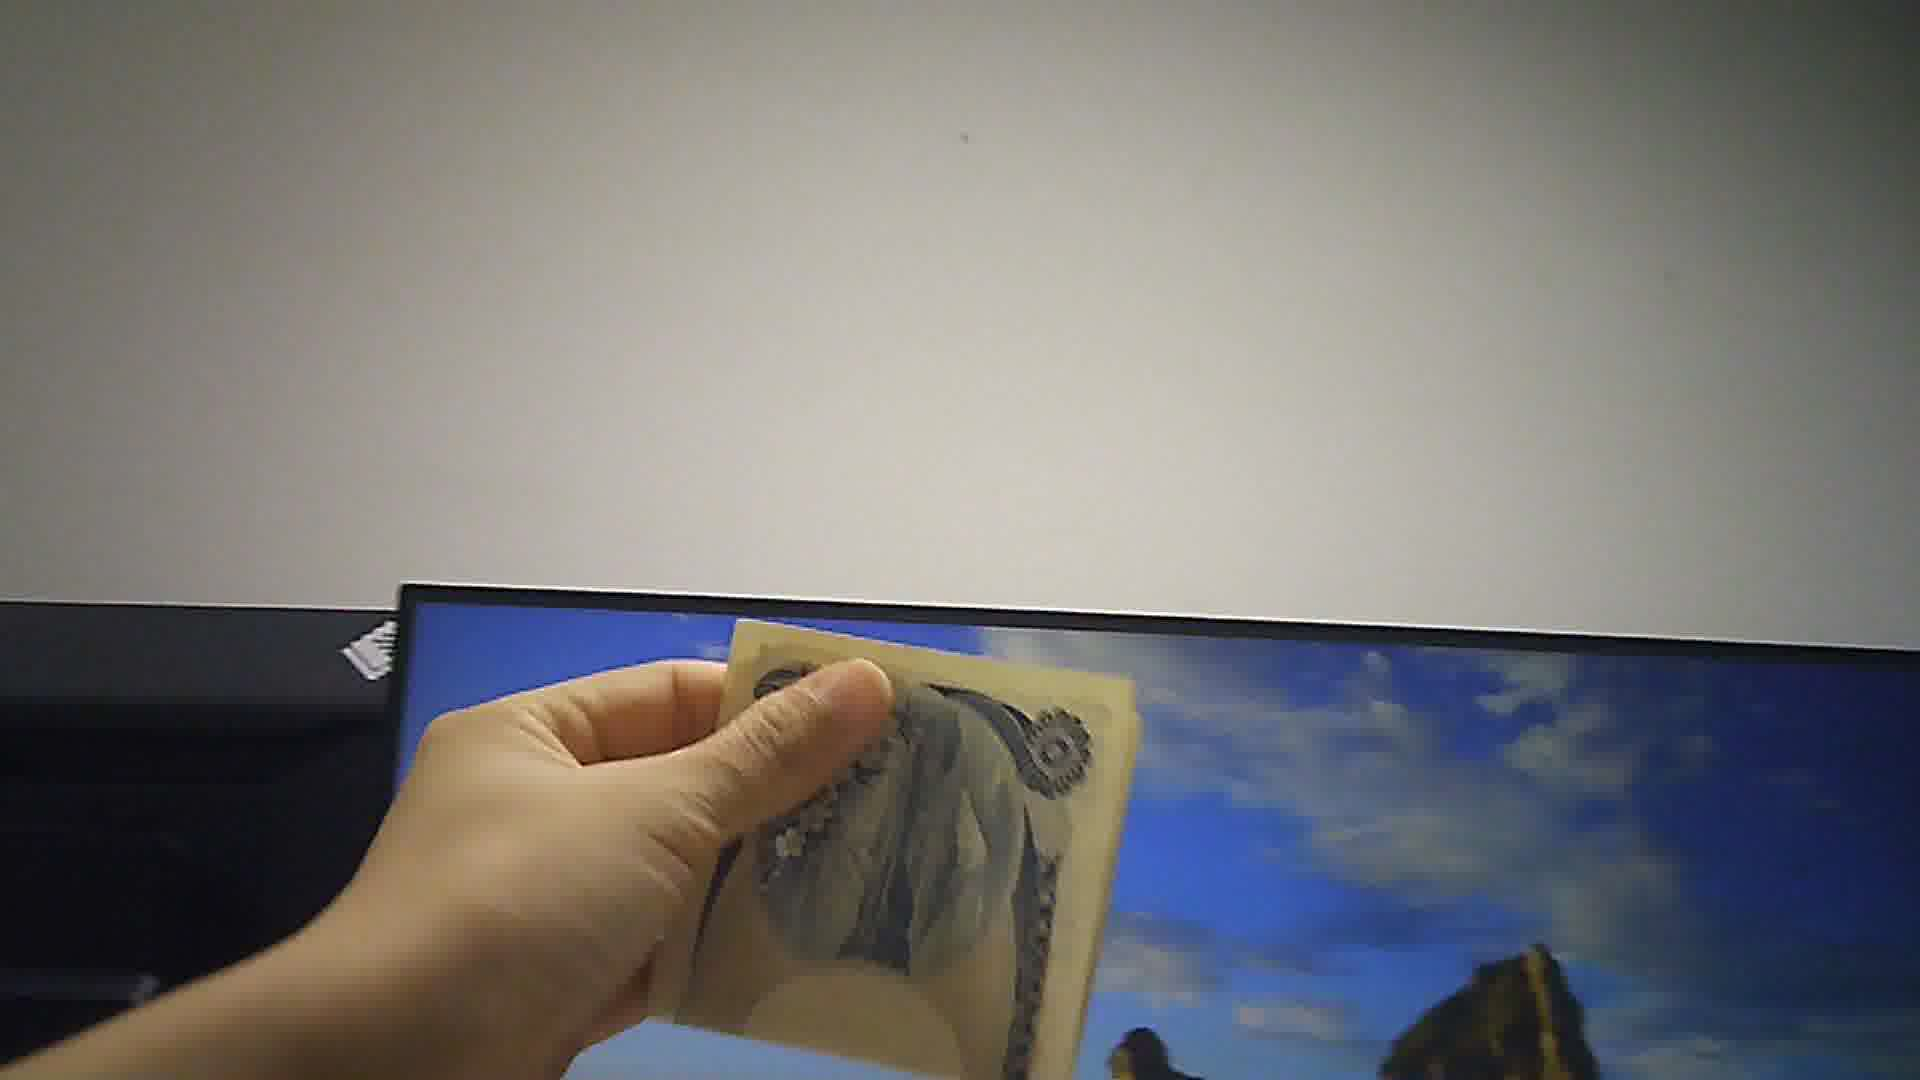1,000 Yen: (651, 607, 1146, 1079)
